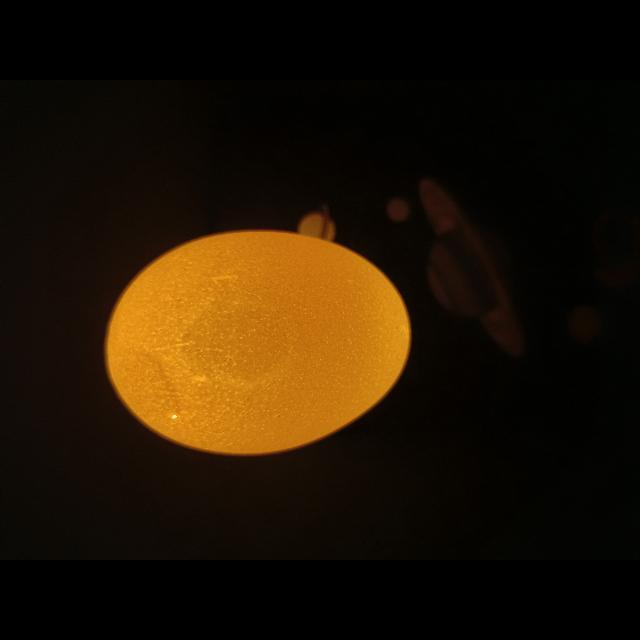AA - Premium: (106, 231, 410, 455)
